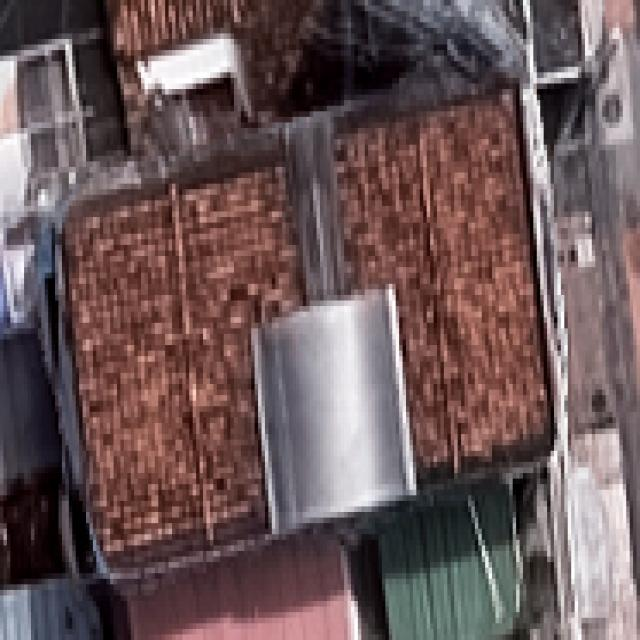Batiment: (65, 142, 305, 563), (335, 87, 549, 478), (106, 0, 246, 61)
